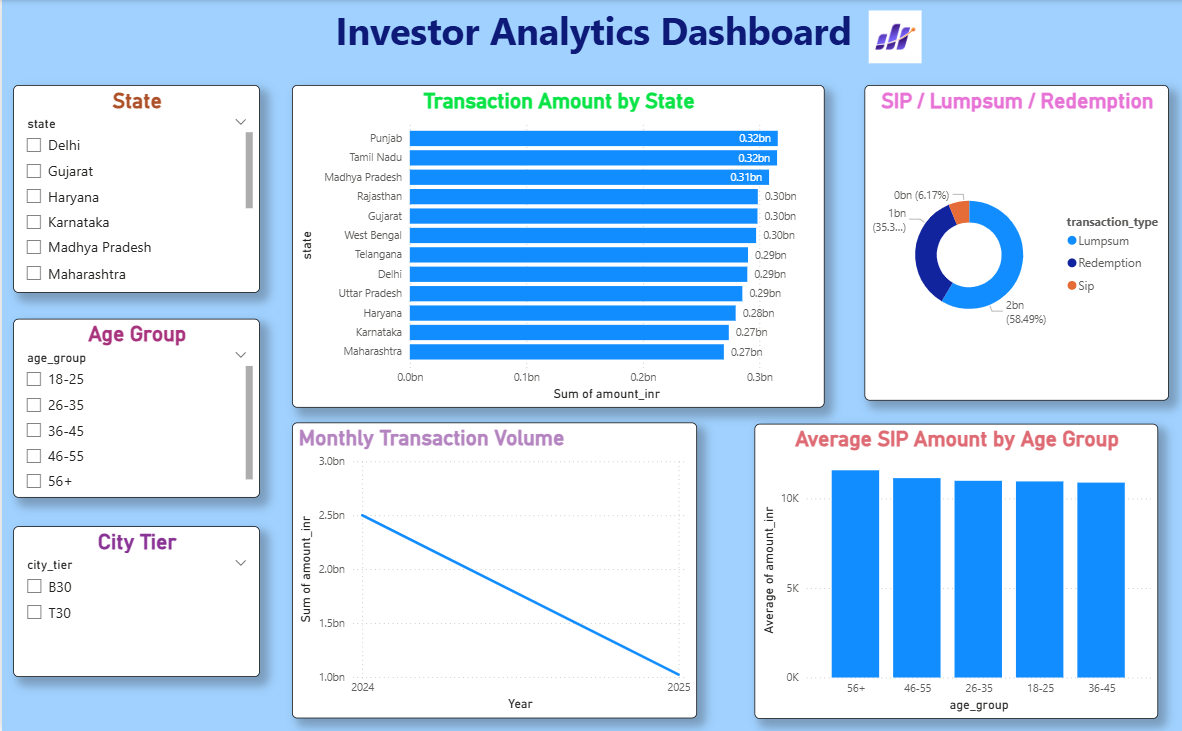

The page's visual inventory and layout, read from the dashboard file:
{"tool":"powerbi","page":{"name":"Investor Analytics Dashboard","canvas":[1343,833],"ordinal":2},"visuals":[{"type":"slicer","title":"State","fields":{"Values":["clean_transactions.state"]},"box":[12.9,97.1,280,235.7],"z":0},{"type":"textbox","box":[0,0,1343.3,83.3],"z":1000},{"type":"slicer","title":"Age Group","fields":{"Values":["clean_transactions.age_group"]},"box":[12.9,361.4,280,202.9],"z":2000},{"type":"slicer","title":"City Tier","fields":{"Values":["clean_transactions.city_tier"]},"box":[12.9,597.1,280,171.4],"z":3000},{"type":"clusteredBarChart","title":"Transaction Amount by State","fields":{"Category":["clean_transactions.state"],"Y":["Sum(clean_transactions.amount_inr)"]},"box":[330,96.7,605,366.7],"z":4000},{"type":"donutChart","title":"SIP / Lumpsum / Redemption","fields":{"Category":["clean_transactions.transaction_type"],"Y":["Sum(clean_transactions.amount_inr)"]},"box":[980,97.1,345.7,358.6],"z":5000},{"type":"lineChart","title":"Monthly Transaction Volume","fields":{"Category":["clean_transactions.transaction_date.Variation.Date Hierarchy.Year","clean_transactions.transaction_date.Variation.Date Hierarchy.Quarter","clean_transactions.transaction_date.Variation.Date Hierarchy.Month","clean_transactions.transaction_date.Variation.Date Hierarchy.Day"],"Y":["Sum(clean_transactions.amount_inr)"]},"box":[330,480,460,335.7],"z":6000},{"type":"clusteredColumnChart","title":"Average SIP Amount by Age Group","fields":{"Category":["clean_transactions.age_group"],"Y":["Avg(clean_transactions.amount_inr)"]},"box":[855,481.7,458.3,335],"z":7000},{"type":"image","box":[980,6.7,70,70],"z":7001}]}

Visuals, with their boxes in screenshot pixels (x1, y1, x2, y2), scaled from the page's 1343x833 canvas onto the 1182x731 screenshot:
"State" slicer: bbox(11, 85, 258, 292)
textbox: bbox(0, 0, 1181, 73)
"Age Group" slicer: bbox(11, 317, 258, 495)
"City Tier" slicer: bbox(11, 524, 258, 674)
"Transaction Amount by State" clusteredBarChart: bbox(290, 85, 823, 407)
"SIP / Lumpsum / Redemption" donutChart: bbox(863, 85, 1167, 400)
"Monthly Transaction Volume" lineChart: bbox(290, 421, 695, 716)
"Average SIP Amount by Age Group" clusteredColumnChart: bbox(753, 423, 1156, 717)
image: bbox(863, 6, 924, 67)
